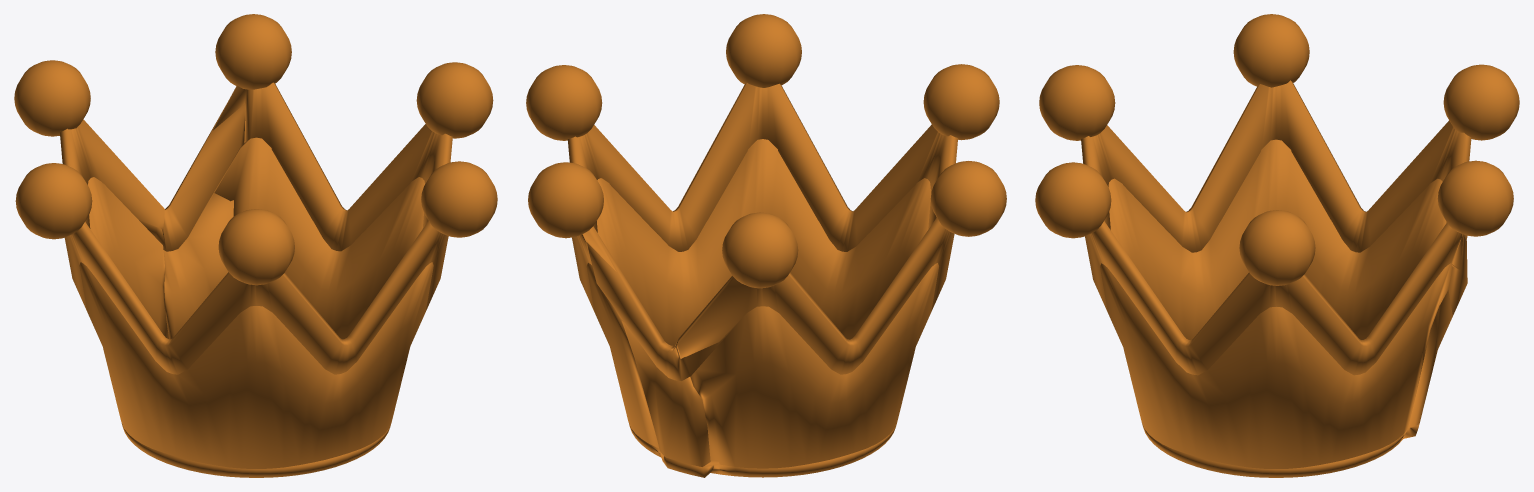
File: corona.fbx
3 renders of one model, left to right at view 1: azimuth 30°, elevation 25°; view 2: azimuth 150°, elevation 25°; view 3: azimuth 270°, elevation 25°, orthographic.
Parts seen in each view (by area): view 1: Corona; view 2: Corona; view 3: Corona.
Boxes of the visible parts, x1,y1,x2,y2 form: Corona: (14, 14, 497, 477); Corona: (526, 14, 1006, 477); Corona: (1035, 14, 1519, 477).
Bounding box in the file's own units: 297 × 266 × 186.
